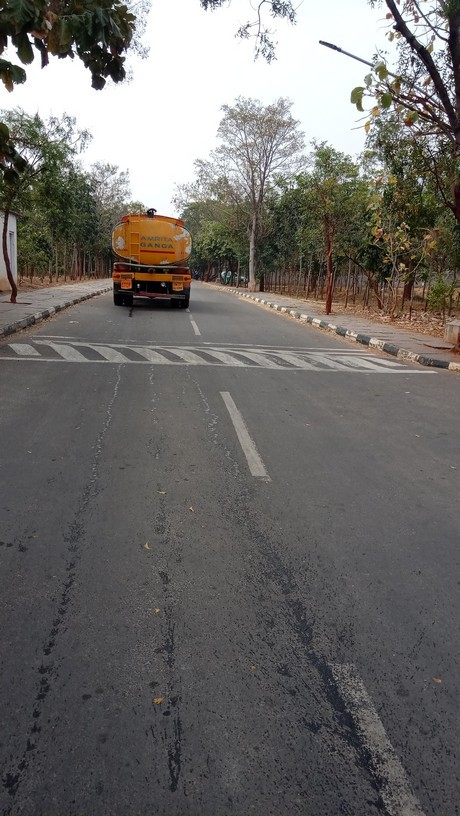bump: (1, 339, 437, 369)
